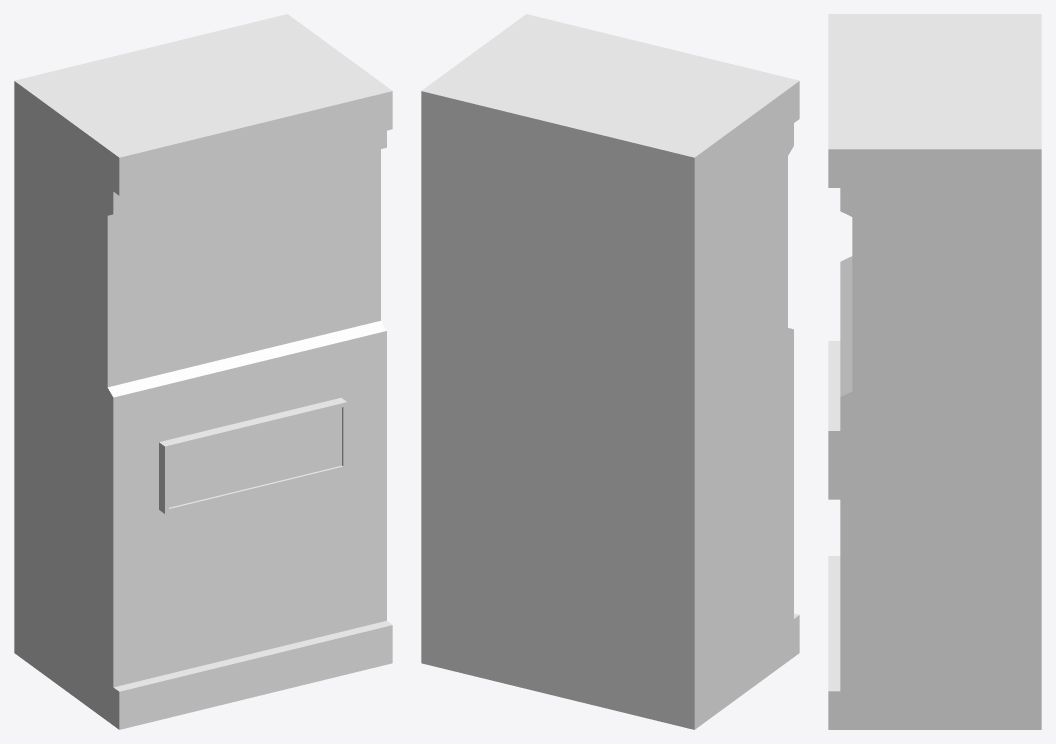
Rendered from Wall_SingleBubble.glb.
3 renders of one model, left to right at view 1: azimuth 30°, elevation 25°; view 2: azimuth 150°, elevation 25°; view 3: azimuth 270°, elevation 25°, orthographic.
Visible parts, largest first — view 1: Wall_SingleBubble; view 2: Wall_SingleBubble; view 3: Wall_SingleBubble.
Part boxes in pixels (x1=…): Wall_SingleBubble: x1=14, y1=14, x2=392, y2=729; Wall_SingleBubble: x1=421, y1=14, x2=799, y2=729; Wall_SingleBubble: x1=828, y1=14, x2=1041, y2=729.
Bounding box in the file's own units: 1.5 × 3 × 1.
Materials: 1 (1 with a texture image).
